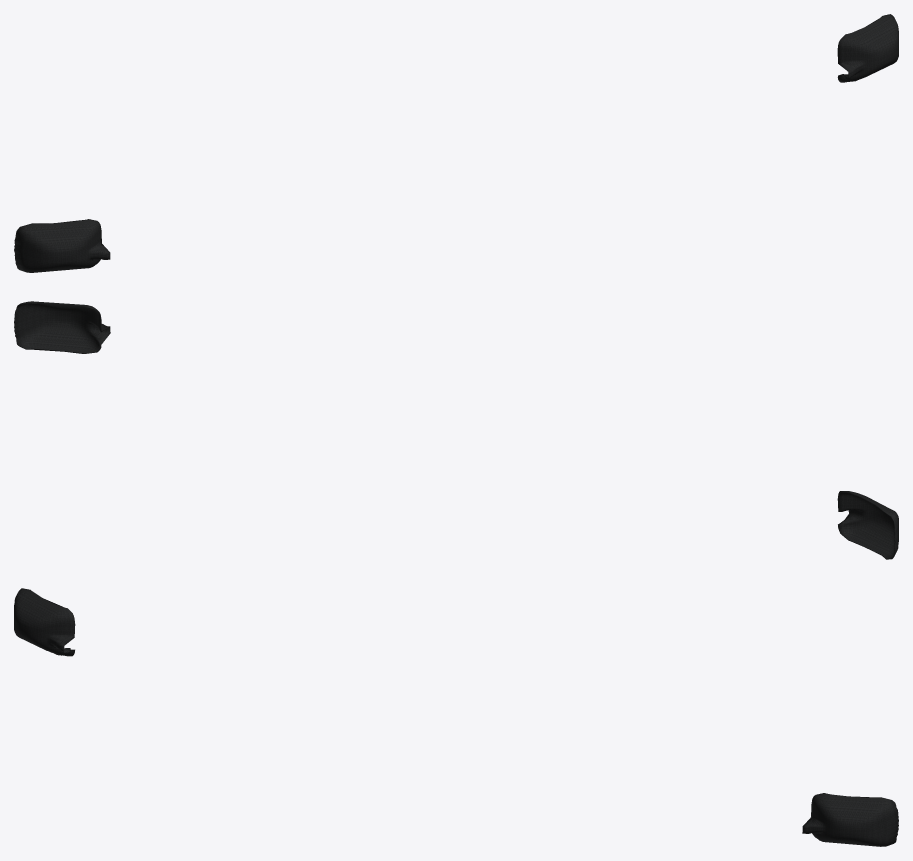
The model's file is DT41_mirror_caps.glb.
3 renders of one model, top to bottom at view 1: azimuth 30°, elevation 25°; view 2: azimuth 150°, elevation 25°; view 3: azimuth 330°, elevation 25°, orthographic.
Parts seen in each view (by area): view 1: MOD_NA_DT41_cap_R, MOD_NA_DT41_cap_L; view 2: MOD_NA_DT41_cap_L, MOD_NA_DT41_cap_R; view 3: MOD_NA_DT41_cap_L, MOD_NA_DT41_cap_R.
Part boxes in pixels (box(x1,y1,x2,y2)): MOD_NA_DT41_cap_R: box(14, 219, 110, 272); MOD_NA_DT41_cap_L: box(837, 14, 898, 82); MOD_NA_DT41_cap_L: box(14, 301, 110, 353); MOD_NA_DT41_cap_R: box(837, 491, 898, 559); MOD_NA_DT41_cap_L: box(802, 793, 898, 846); MOD_NA_DT41_cap_R: box(14, 588, 75, 656).
Size of the model in its own units: 1.82 by 0.0937 by 0.0909.
Materials: 1 (1 with a texture image).
